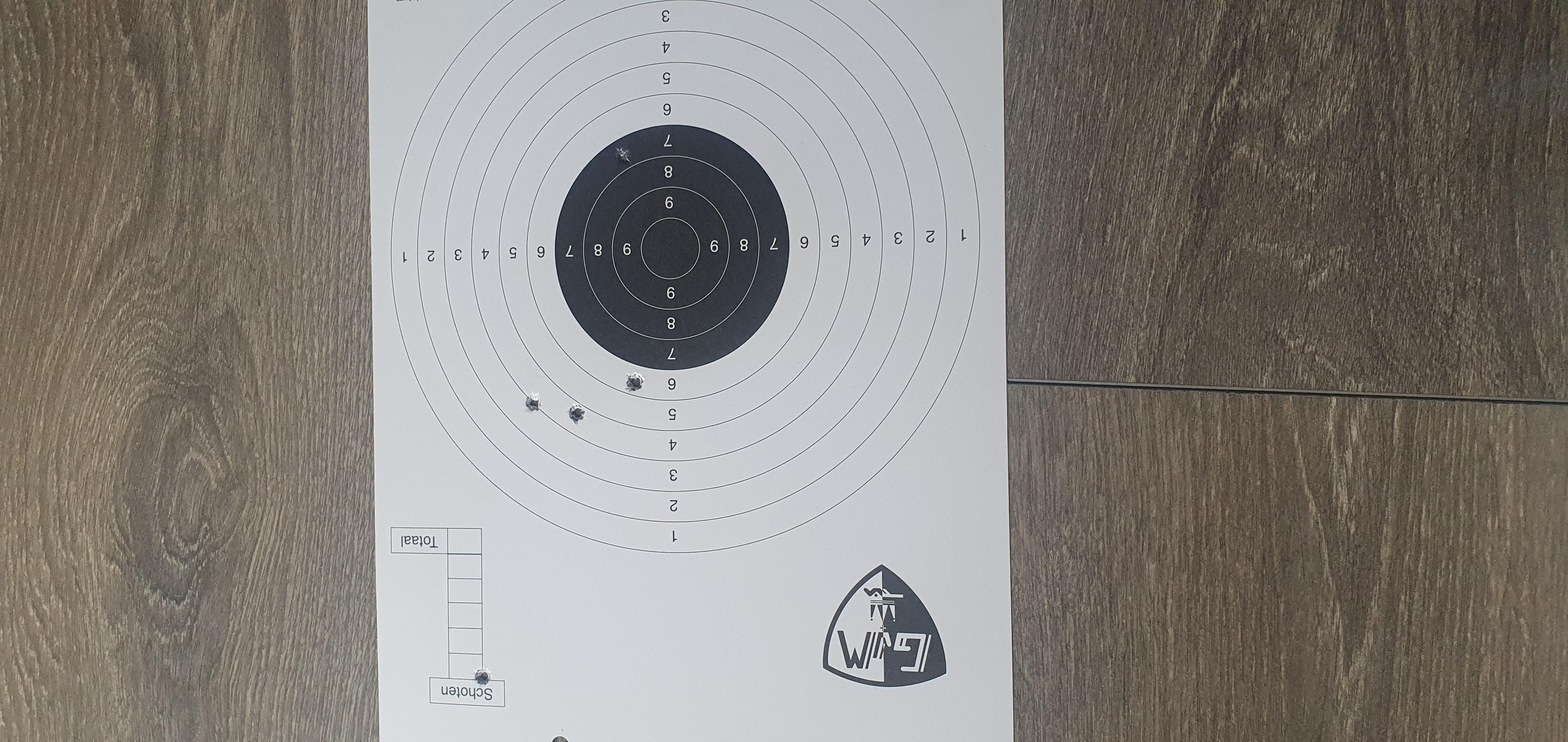hole: (733, 293, 782, 305), (107, 224, 162, 233), (673, 267, 718, 278), (1214, 289, 1260, 299), (695, 247, 737, 256)
